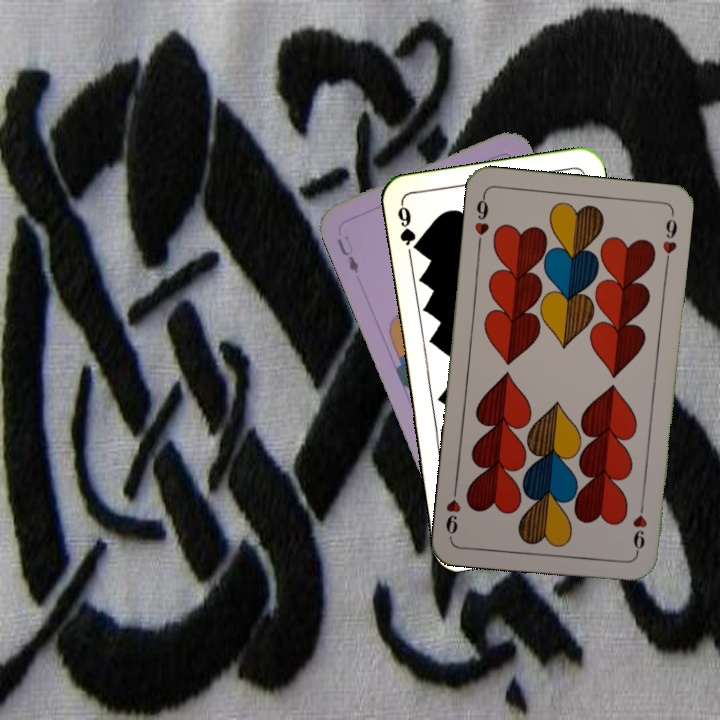EU: (332, 231, 362, 276)
G9: (393, 200, 421, 254)
H9: (470, 191, 492, 250), (629, 498, 650, 557)
